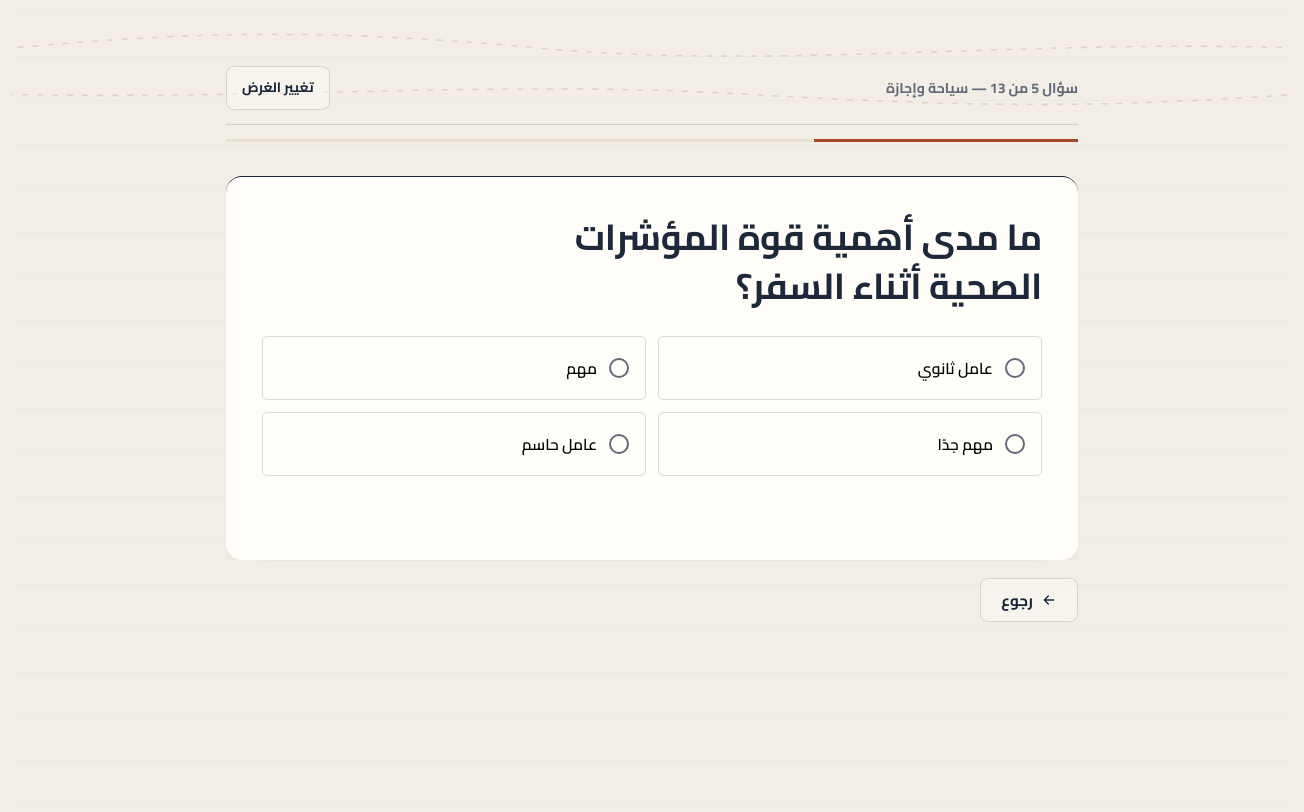
Test case: the passport step sits between the questionnaire and the results › lets a passport be chosen from a searchable listbox, then continues
This screenshot has width=1304, height=812.
Earlier steps of the test are not shown.
Click the radio button labelled "عامل ثانوي". click: (955, 368)
box: [658,336,1042,400]
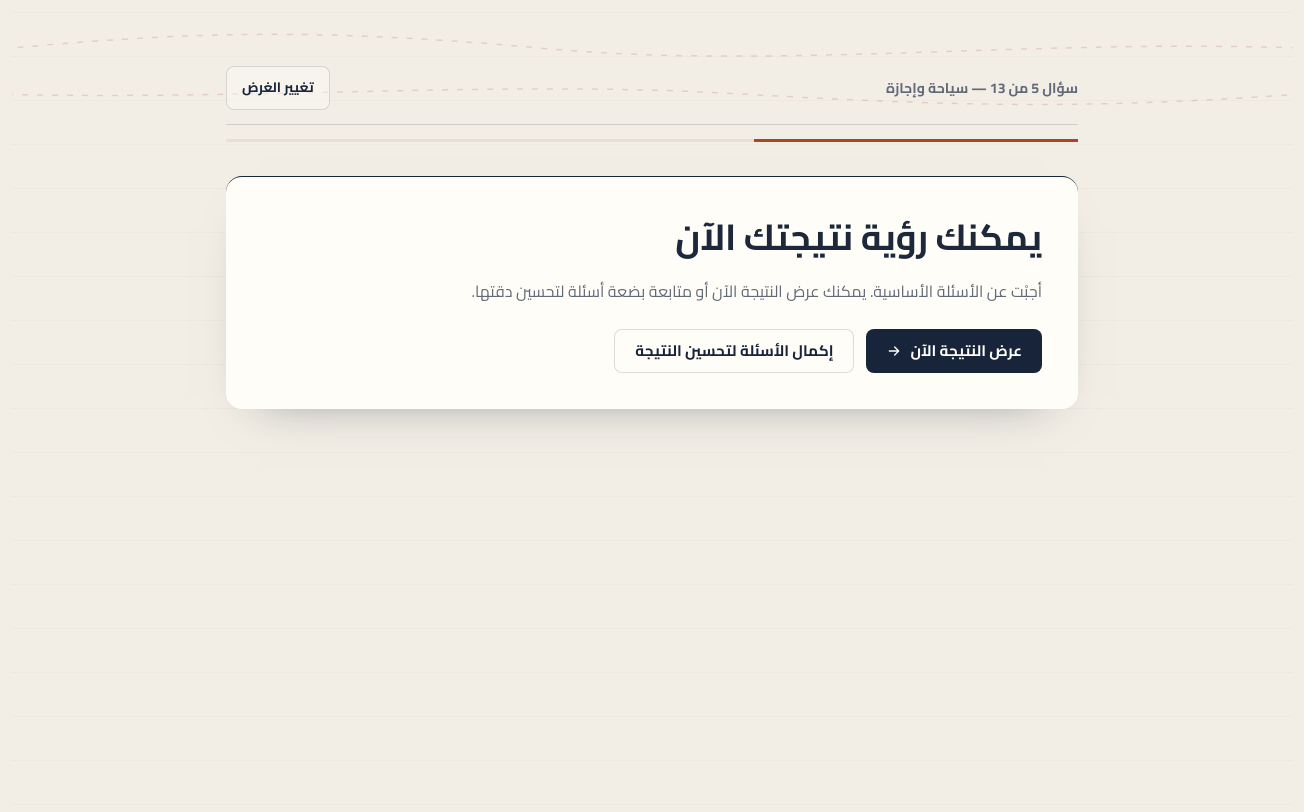
Click the button "عرض النتيجة الآن". click: (954, 351)
box: [866,329,1042,373]
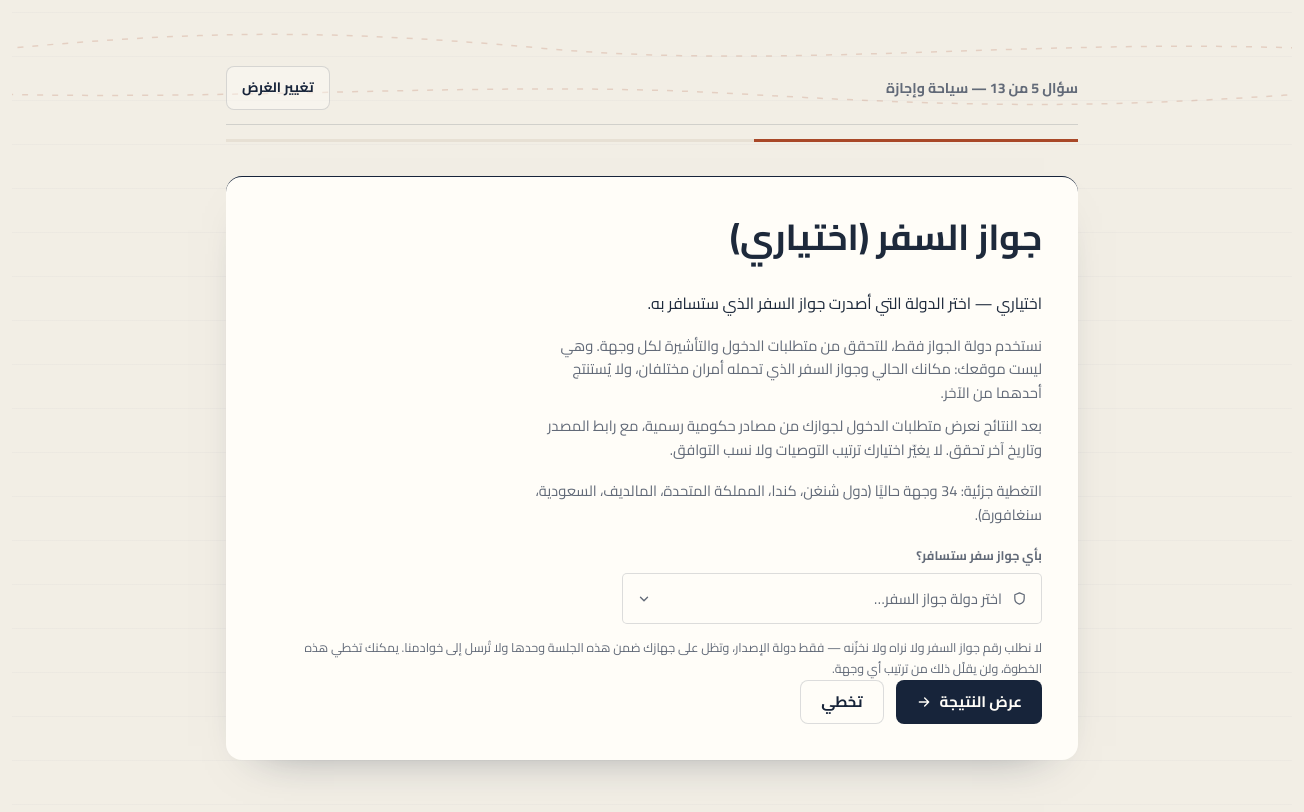
expect the heading "جواز السفر (اختياري)" is shown: met, box [730,203,1042,271]
Click the dropdown named "بأي جواز سفر ستسافر؟". click: (938, 599)
box: [622,573,1042,624]
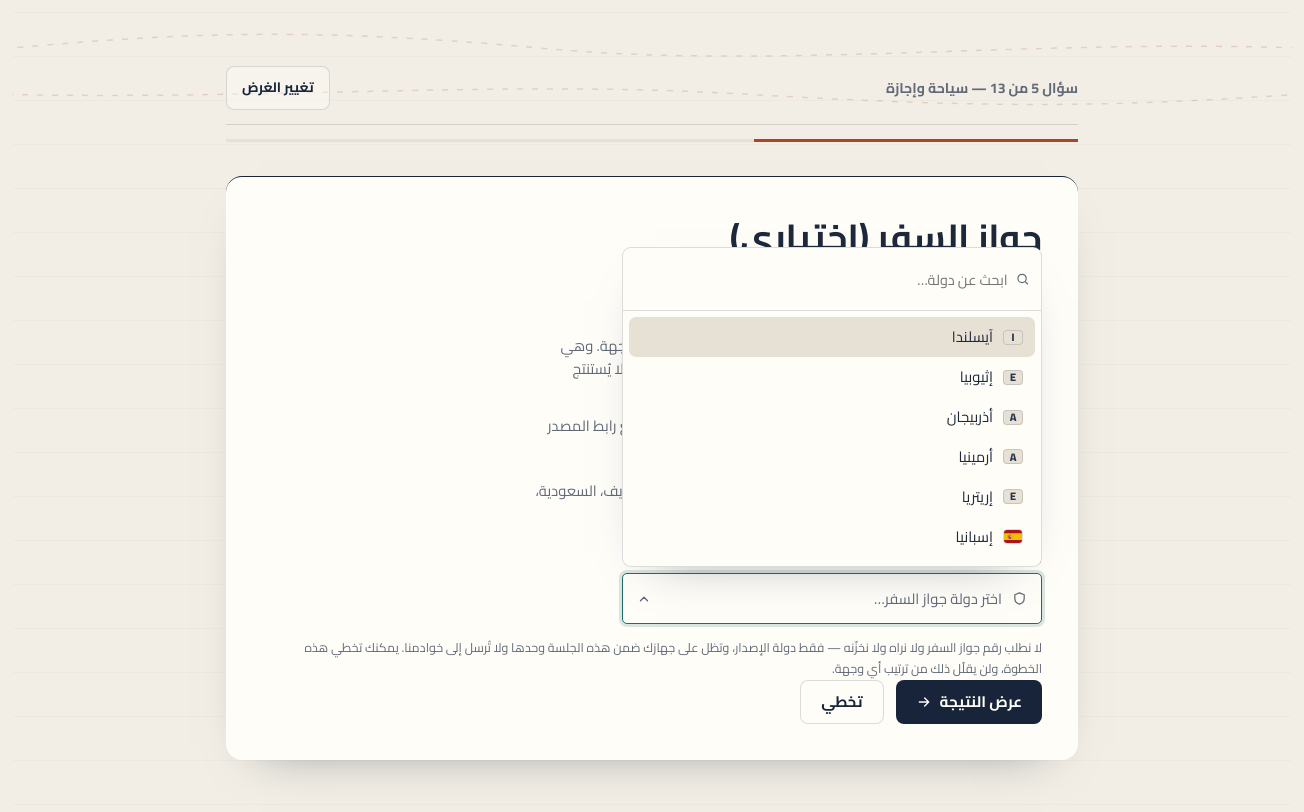
Type "اليابان" into the field with placeholder "ابحث عن دولة…". click: (821, 279)
box: [635,258,1008,300]
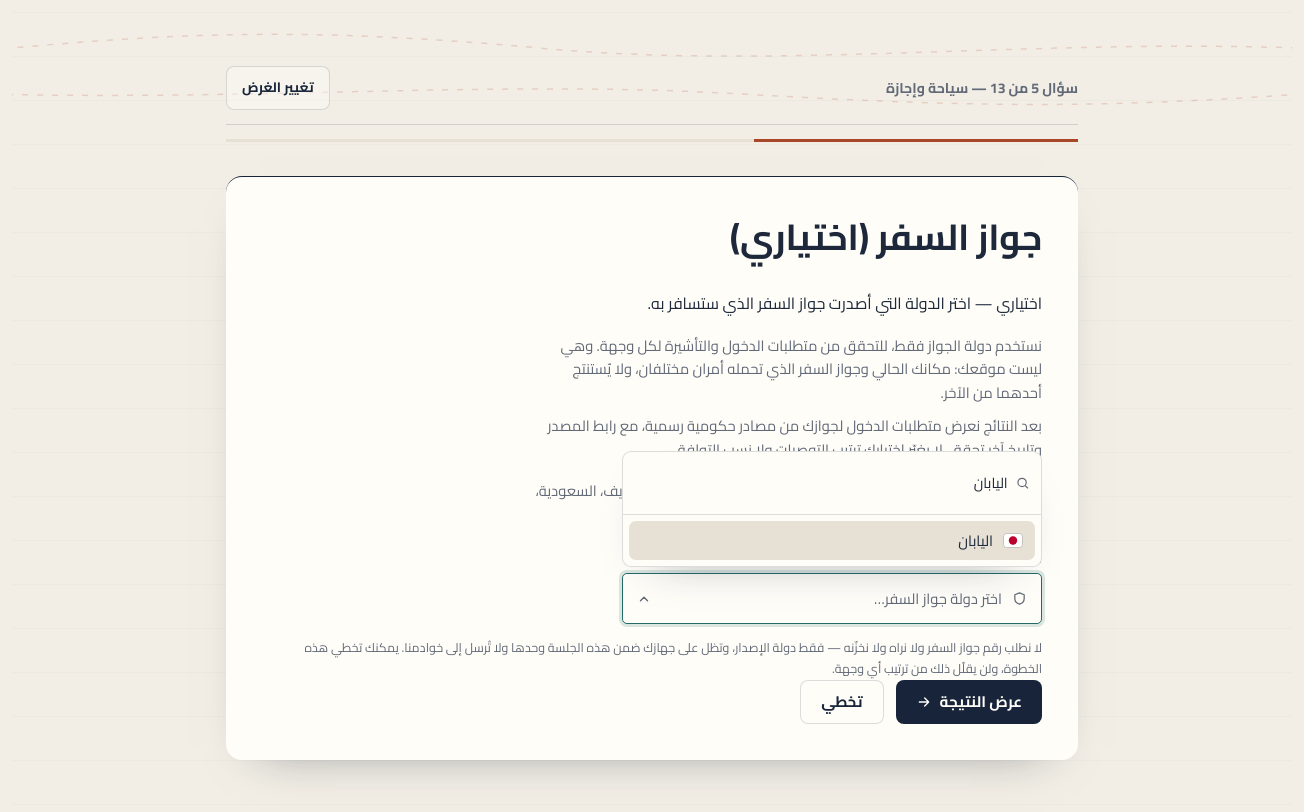
expect the option "اليابان" is shown: met
Click the option "اليابان". click: (976, 540)
box: [629,521,1035,560]
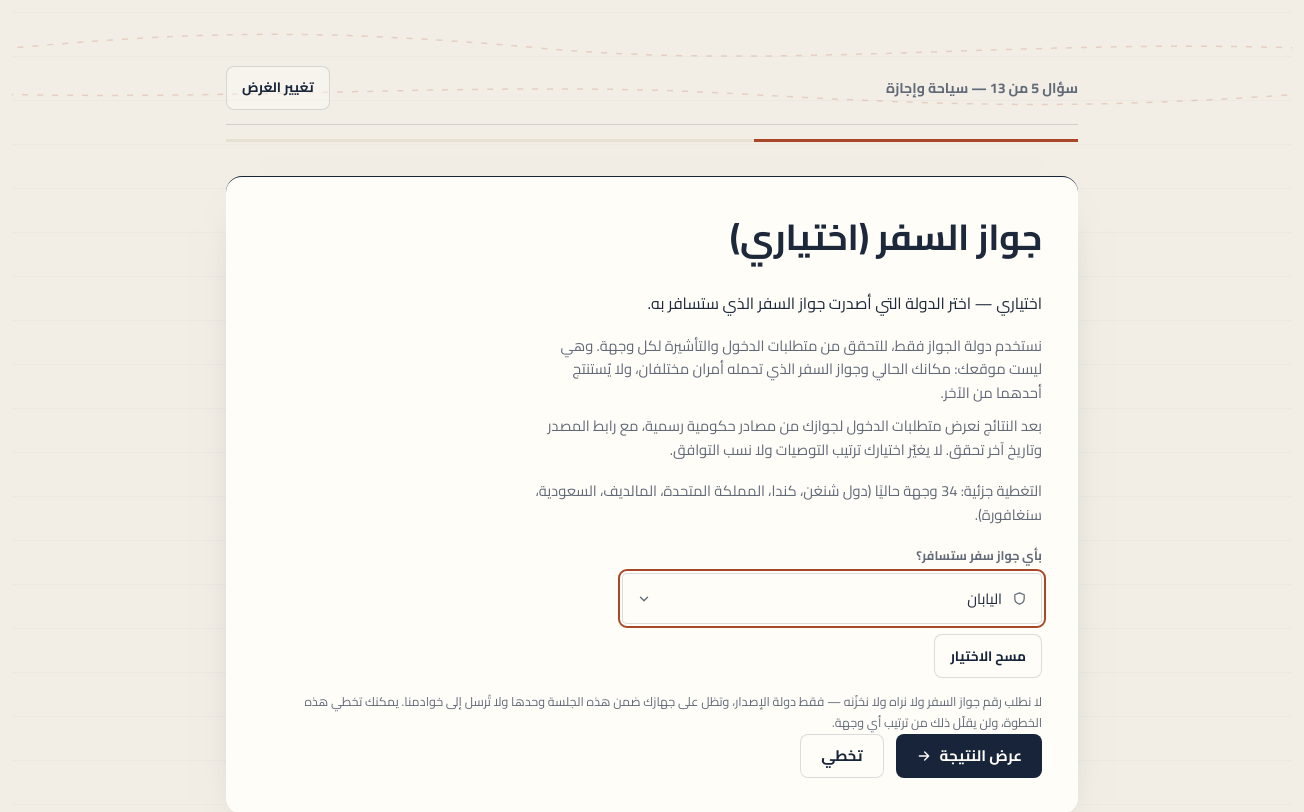
expect the dropdown named "بأي جواز سفر ستسافر؟" reads "اليابان": met, box [622,573,1042,624]
Click the button "عرض النتيجة". click: (969, 756)
box: [896,734,1042,778]
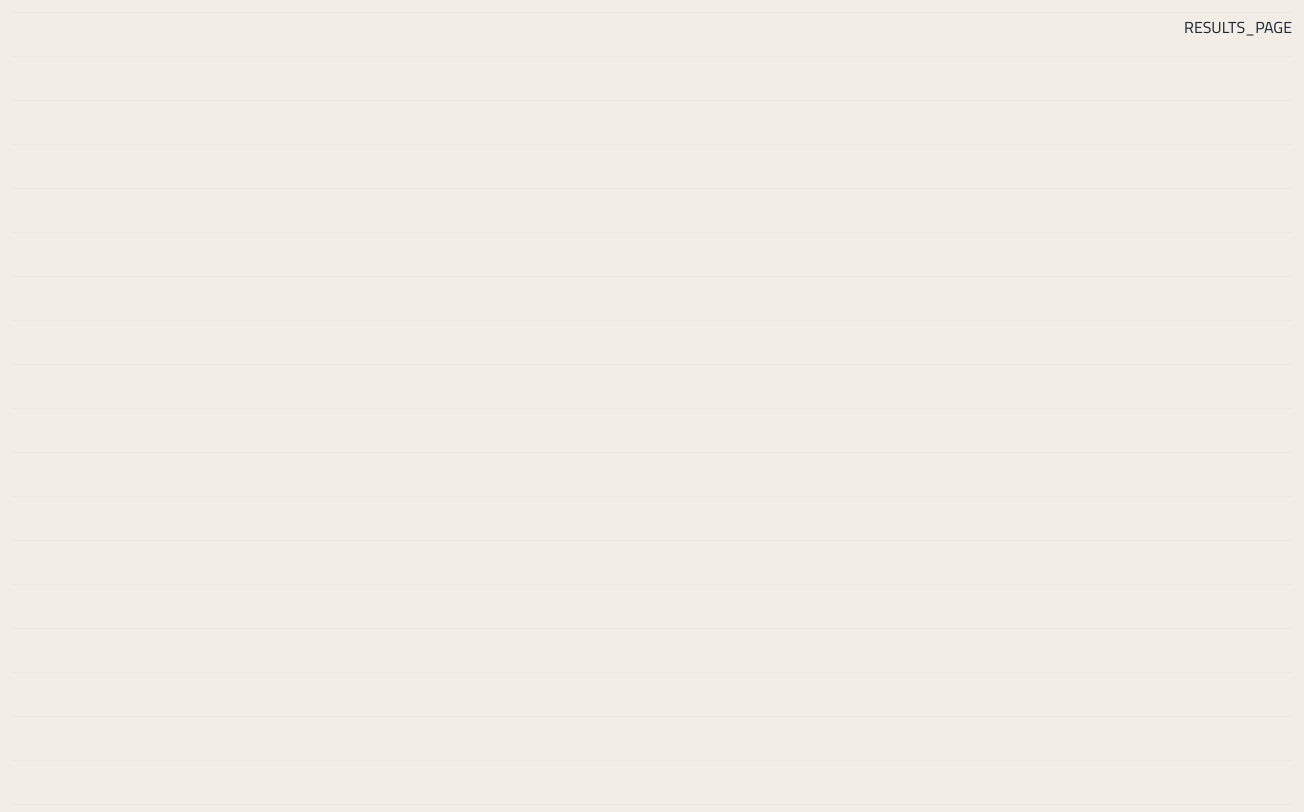
expect the text "RESULTS_PAGE" is shown: met, box [1184,12,1292,42]
